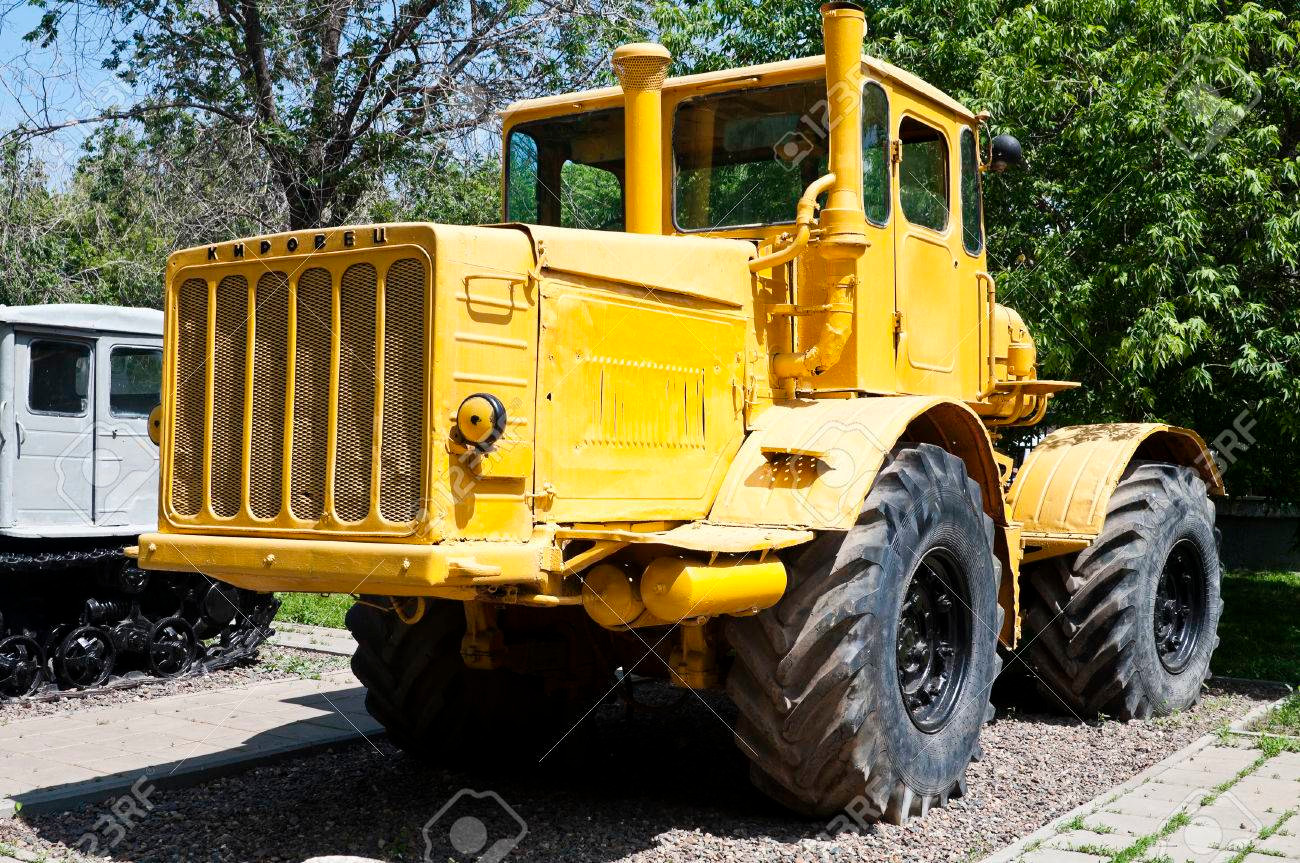tractor: (119, 6, 1229, 822)
